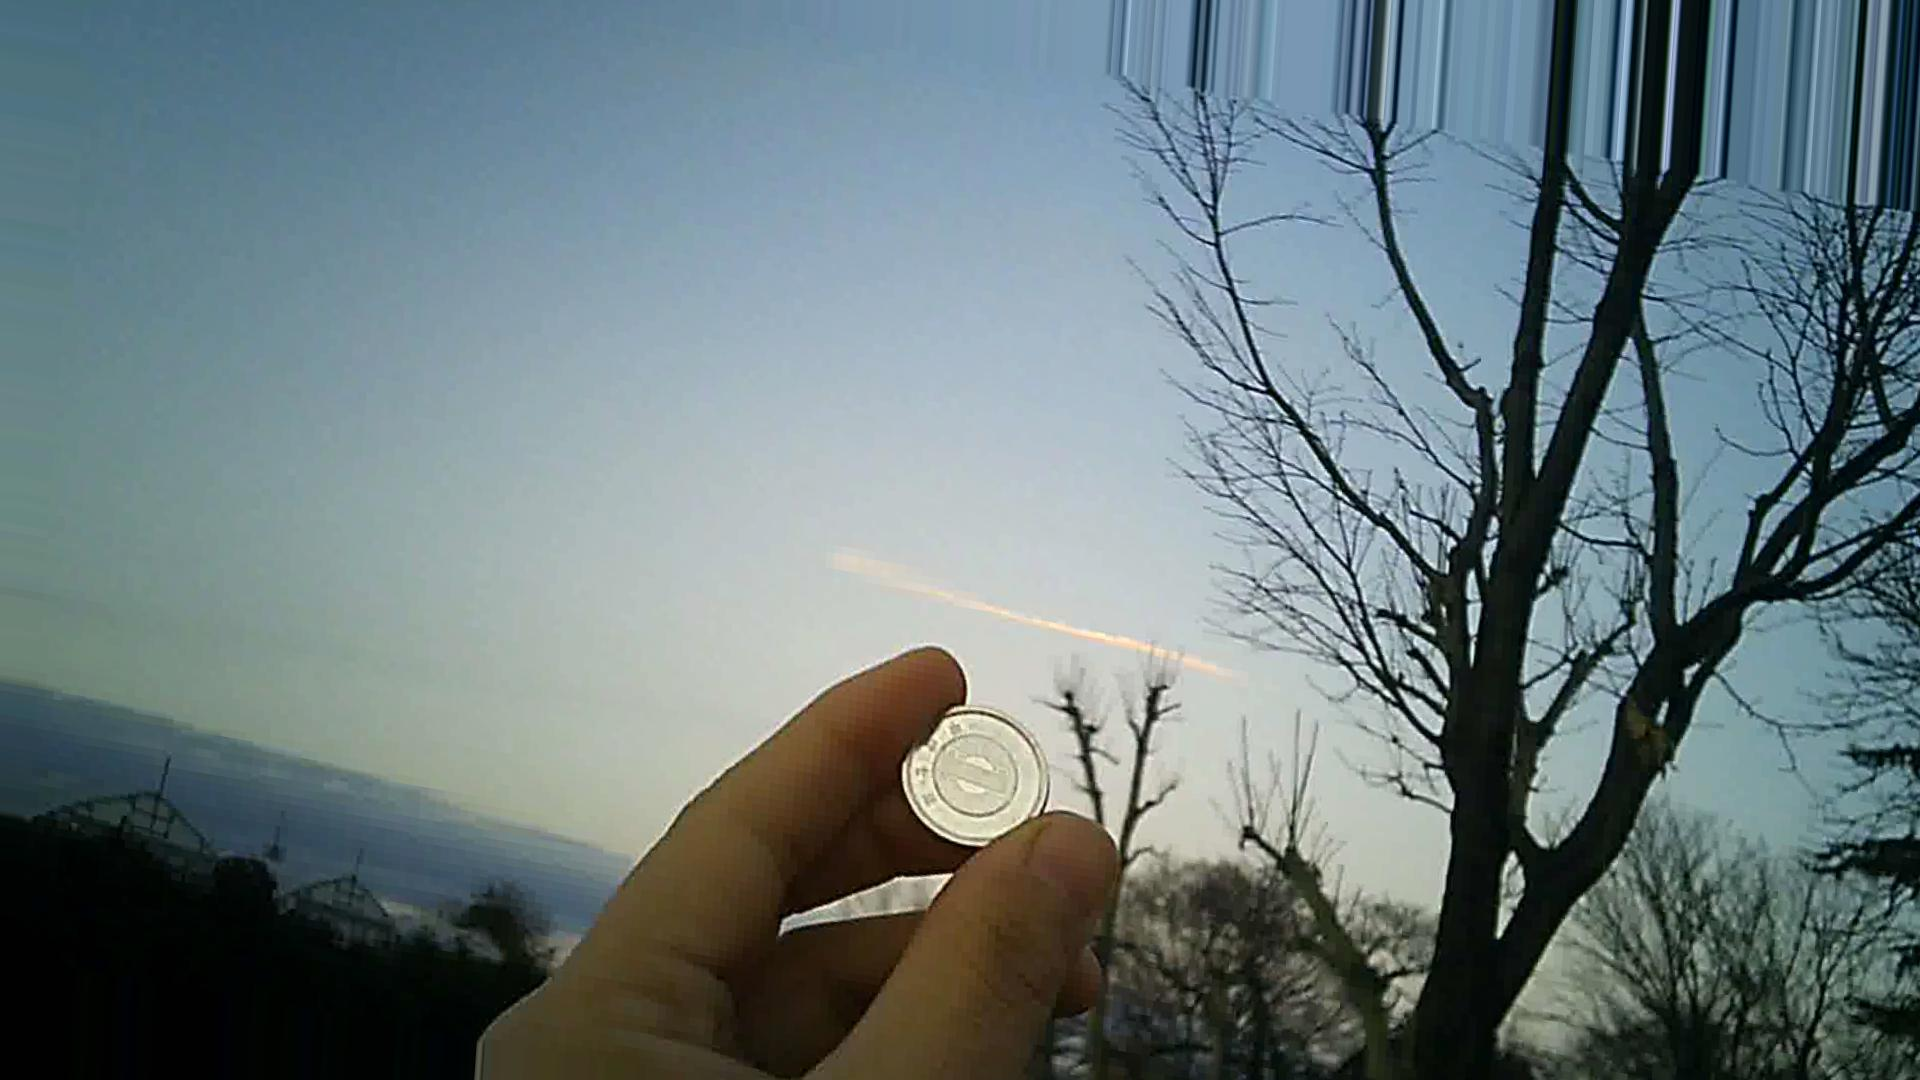1 Yen: (891, 702, 1058, 851)
